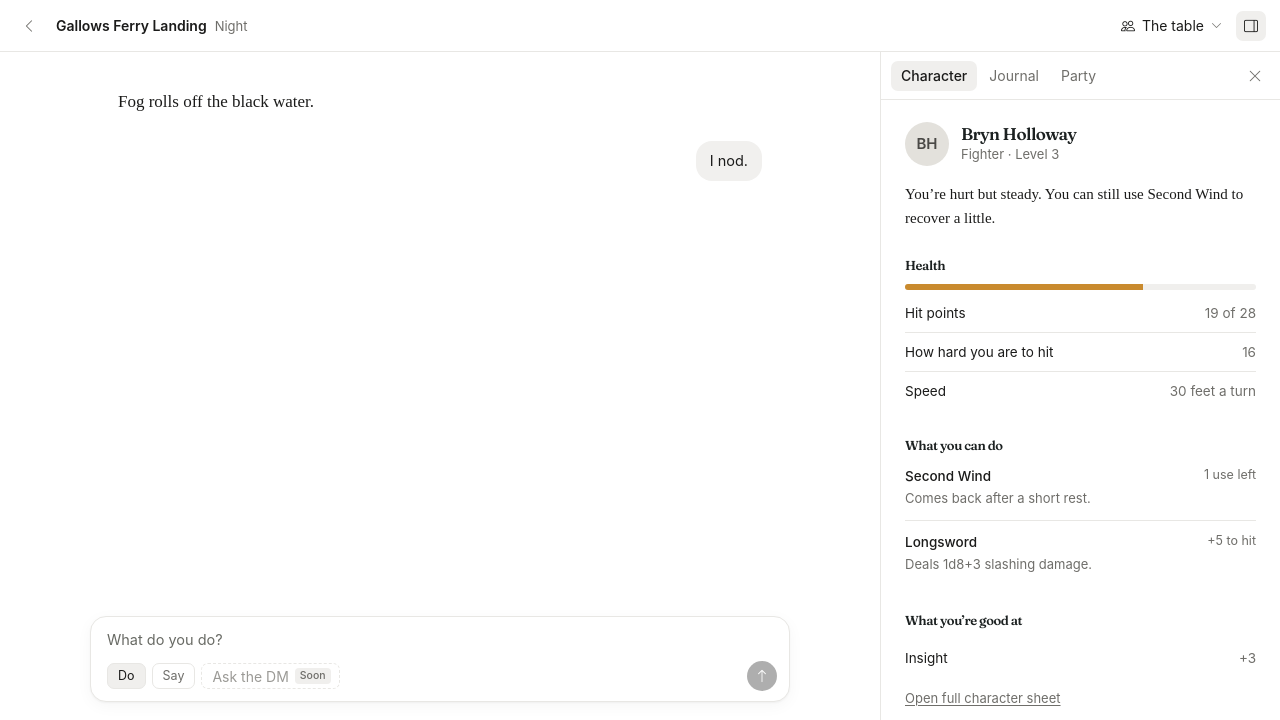
Test: closes the conversation menu on a tap outside it
Click the button with class "tv-switch-btn" at (1171, 26), box 1111,10 -> 1232,40
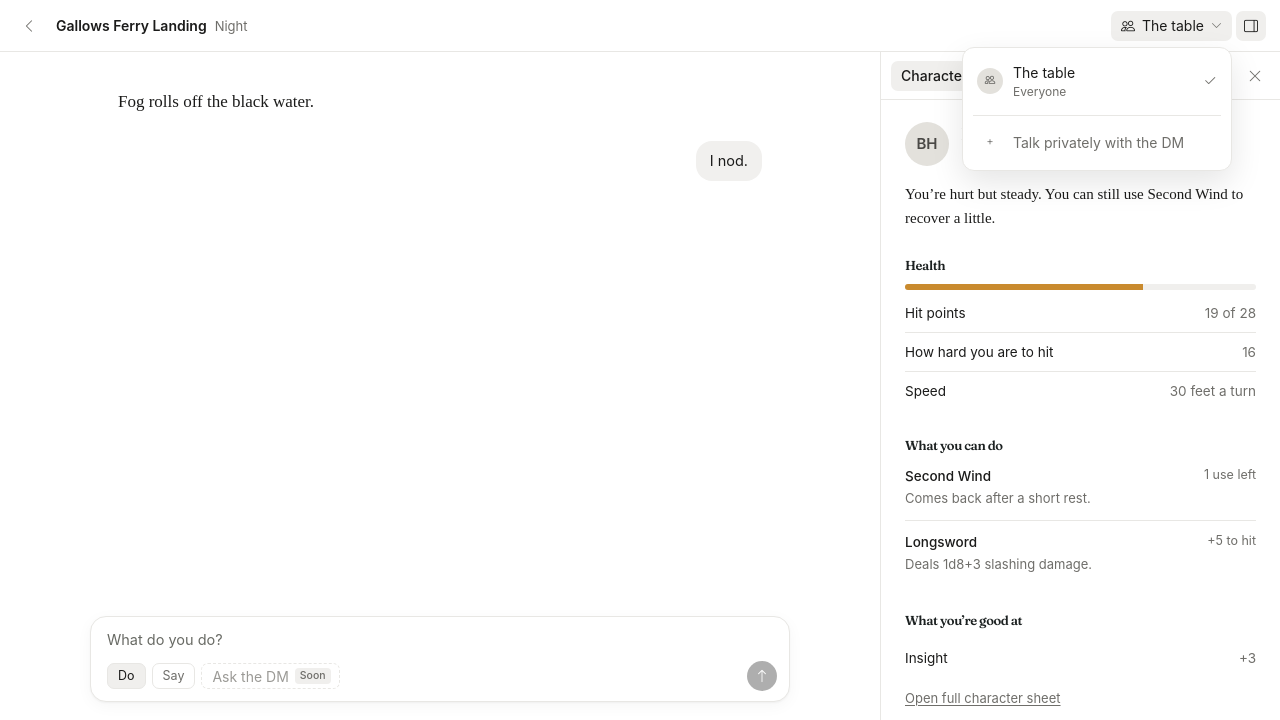
Expected: the menu with class "tv-menu" is shown, 962,46 -> 1232,170
Press the mouse on the element with class "tv-thread" at (216, 102), box 118,92 -> 762,181
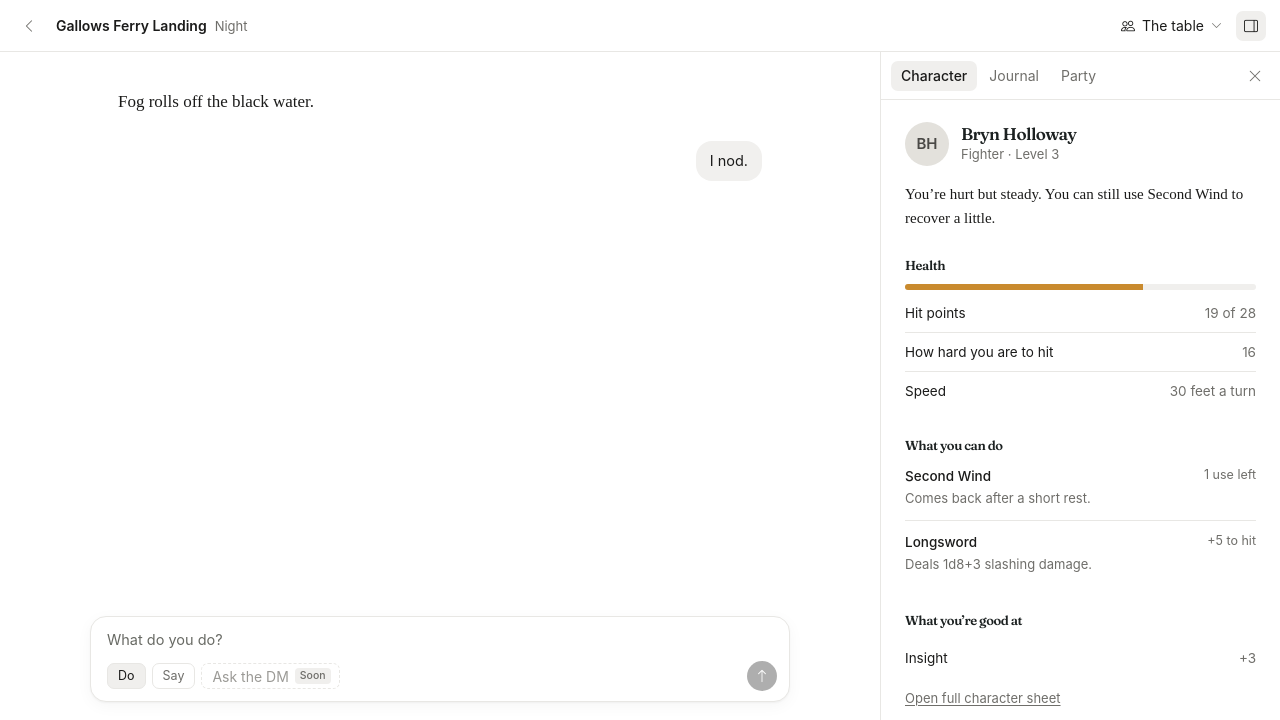
Expected: the menu with class "tv-menu" is gone
